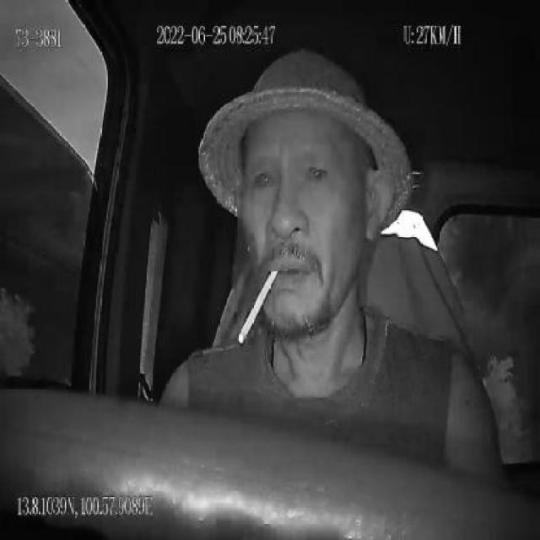smoking: (237, 267, 277, 345)
